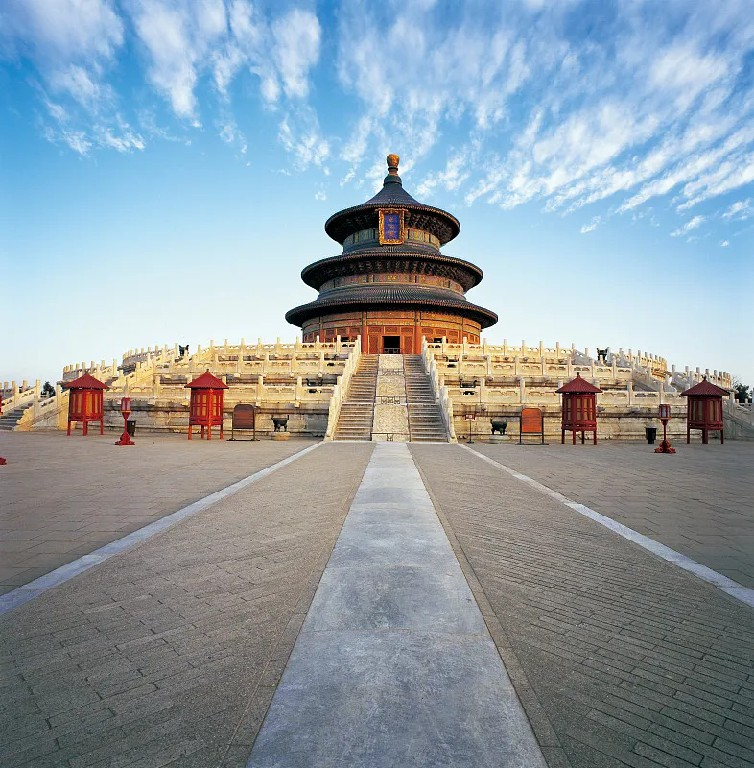Heaven: (283, 155, 499, 359)
